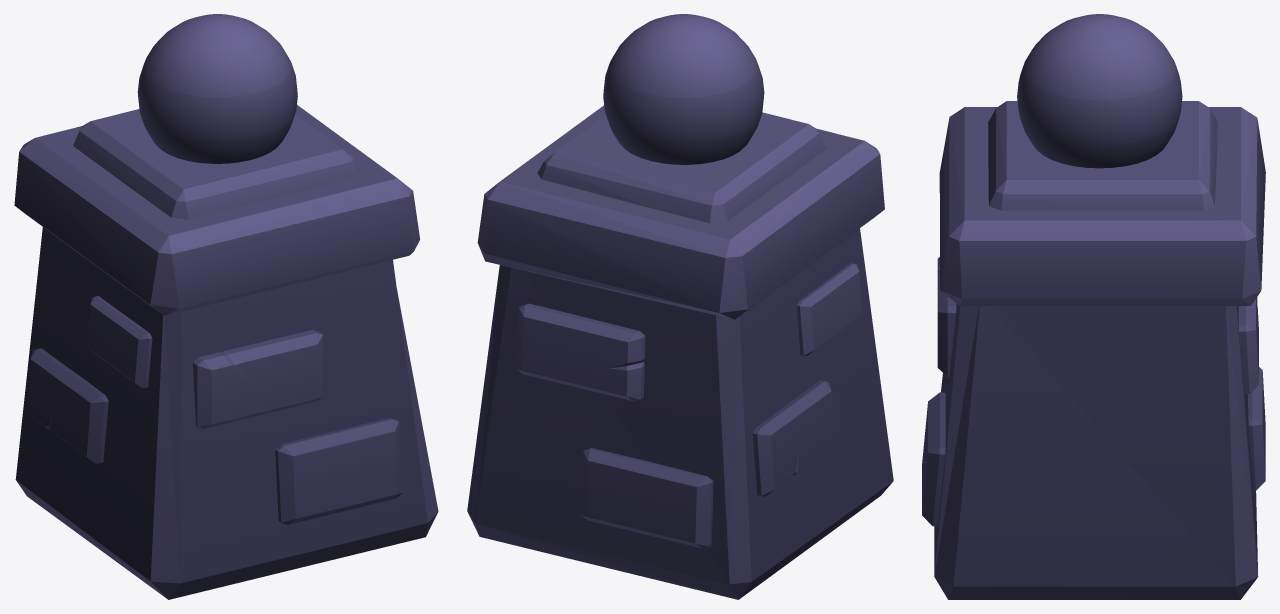
Rendered from fence_pillar_2.glb.
3 views of the same model, side by side, from view 1: azimuth 30°, elevation 25°; view 2: azimuth 150°, elevation 25°; view 3: azimuth 270°, elevation 25° (orthographic). The views are drawn at different scales.
Parts seen in each view (by area): view 1: fence_pillar_2; view 2: fence_pillar_2; view 3: fence_pillar_2.
Part boxes in pixels (x1,y1,x2,y2): fence_pillar_2: (14, 14, 438, 599); fence_pillar_2: (467, 14, 893, 599); fence_pillar_2: (922, 14, 1265, 599).
Size of the model in its own units: 1.77 by 2.88 by 1.76.
1 material, 1 textured.
